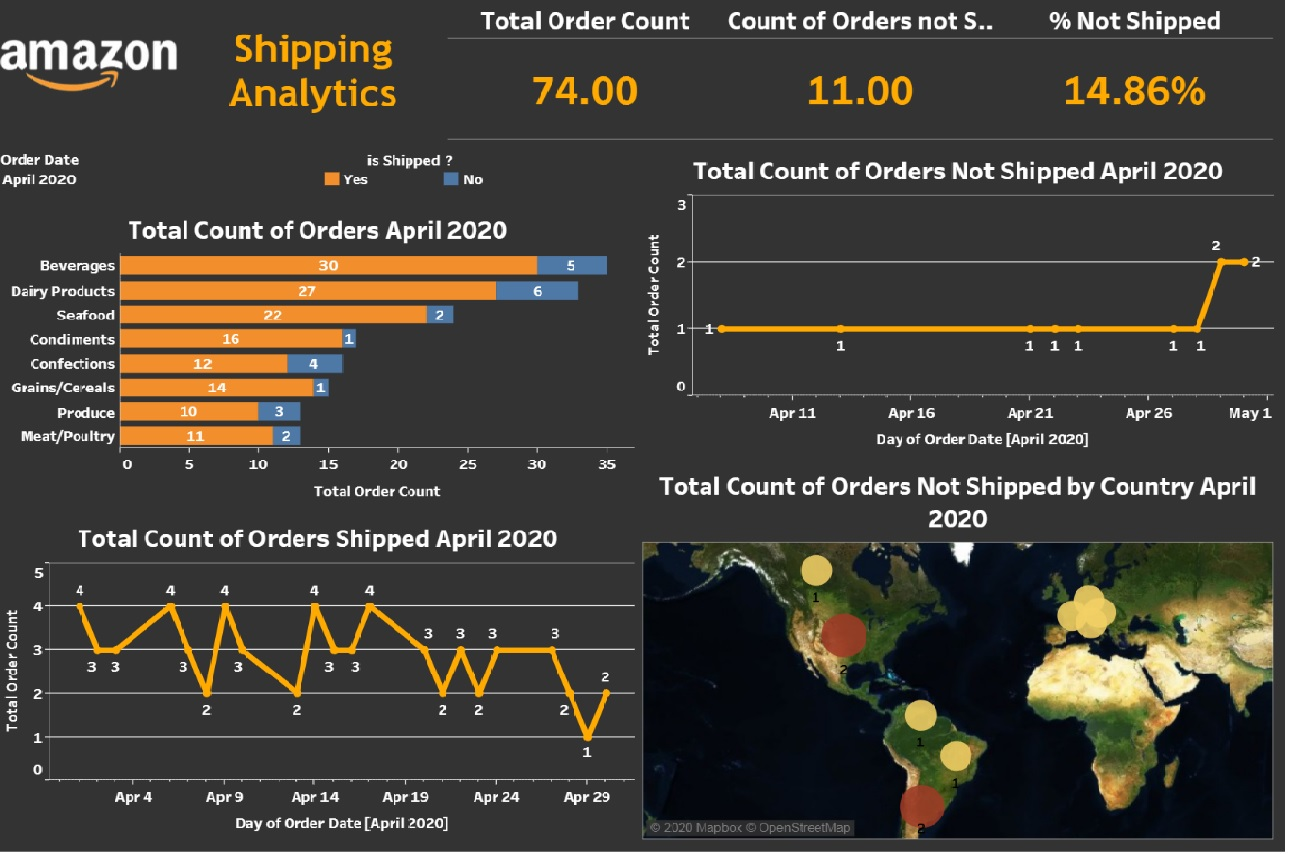

Layout of this report page (visuals, bound fields, positions):
{"tool":"tableau","page":{"name":"Dashboard 1","canvas":[1300,900],"ordinal":0},"visuals":[{"type":"image","param":"Image/amazon_PNG11.png","box":[8,8,186,154]},{"type":"text","box":[194,8,263,154]},{"type":"worksheet","title":"Headline Cards","mark":"Automatic","box":[457,8,835,154]},{"type":"filter","title":"Count of Orders","param":"[federated.15y85ei016dti91bm2ayw1dtszi3].[my:Calculation_1481895434133929984:ok]","box":[8,162,644,52]},{"type":"worksheet","title":"Count of Orders for Month (Not Shipped)","mark":"Automatic","rows":["Calculation_1481895434149076994"],"cols":["Calculation_1481895434133929984"],"box":[651.7,162,640.3,328.5]},{"type":"worksheet","title":"Count of Orders","mark":"Automatic","rows":["Calculation_1481895434151337987"],"cols":["CategoryName"],"box":[8,214,643.7,332]},{"type":"legend","title":"Count of Orders","param":"[federated.15y85ei016dti91bm2ayw1dtszi3].[none:Calculation_1481895434151337987:n","box":[372,255,190,66]},{"type":"worksheet","title":"Count of orders not shipped by country","mark":"Automatic","box":[651.7,490.5,640.3,401.5]},{"type":"worksheet","title":"Count of Orders for Month","mark":"Automatic","rows":["Calculation_1481895434149076994"],"cols":["Calculation_1481895434133929984"],"box":[8,546,643.7,346]}]}

Visuals, with their boxes on the page's 1300x900 design canvas (x1, y1, x2, y2). These are canvas units, not pixel positions in the 1296x854 screenshot, which may show the page scaled, cropped or inside an application window:
image: (left=8, top=8, right=194, bottom=162)
text: (left=194, top=8, right=457, bottom=162)
"Headline Cards" worksheet: (left=457, top=8, right=1292, bottom=162)
"Count of Orders" filter: (left=8, top=162, right=652, bottom=214)
"Count of Orders for Month (Not Shipped)" worksheet: (left=652, top=162, right=1292, bottom=490)
"Count of Orders" worksheet: (left=8, top=214, right=652, bottom=546)
"Count of Orders" legend: (left=372, top=255, right=562, bottom=321)
"Count of orders not shipped by country" worksheet: (left=652, top=490, right=1292, bottom=892)
"Count of Orders for Month" worksheet: (left=8, top=546, right=652, bottom=892)
